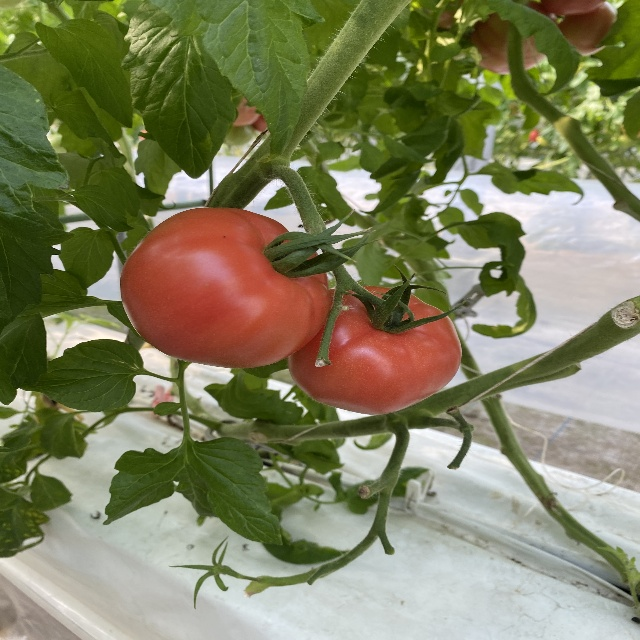b_fully_ripened: (120, 206, 329, 369), (288, 286, 462, 415)
